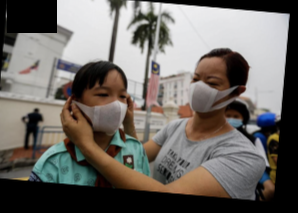with_mask: (82, 84, 128, 135), (187, 71, 228, 114)
